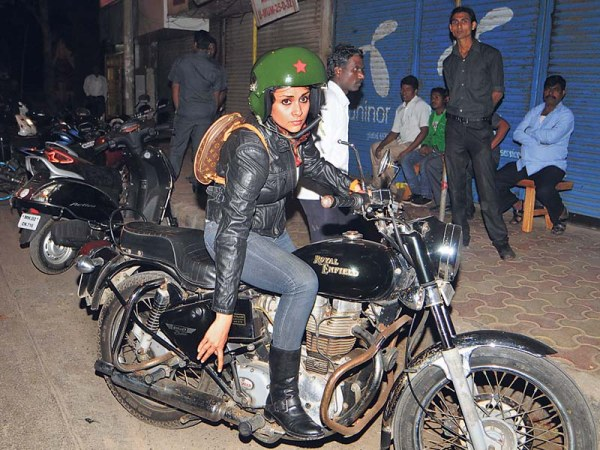with_helmet: (253, 47, 330, 118)
